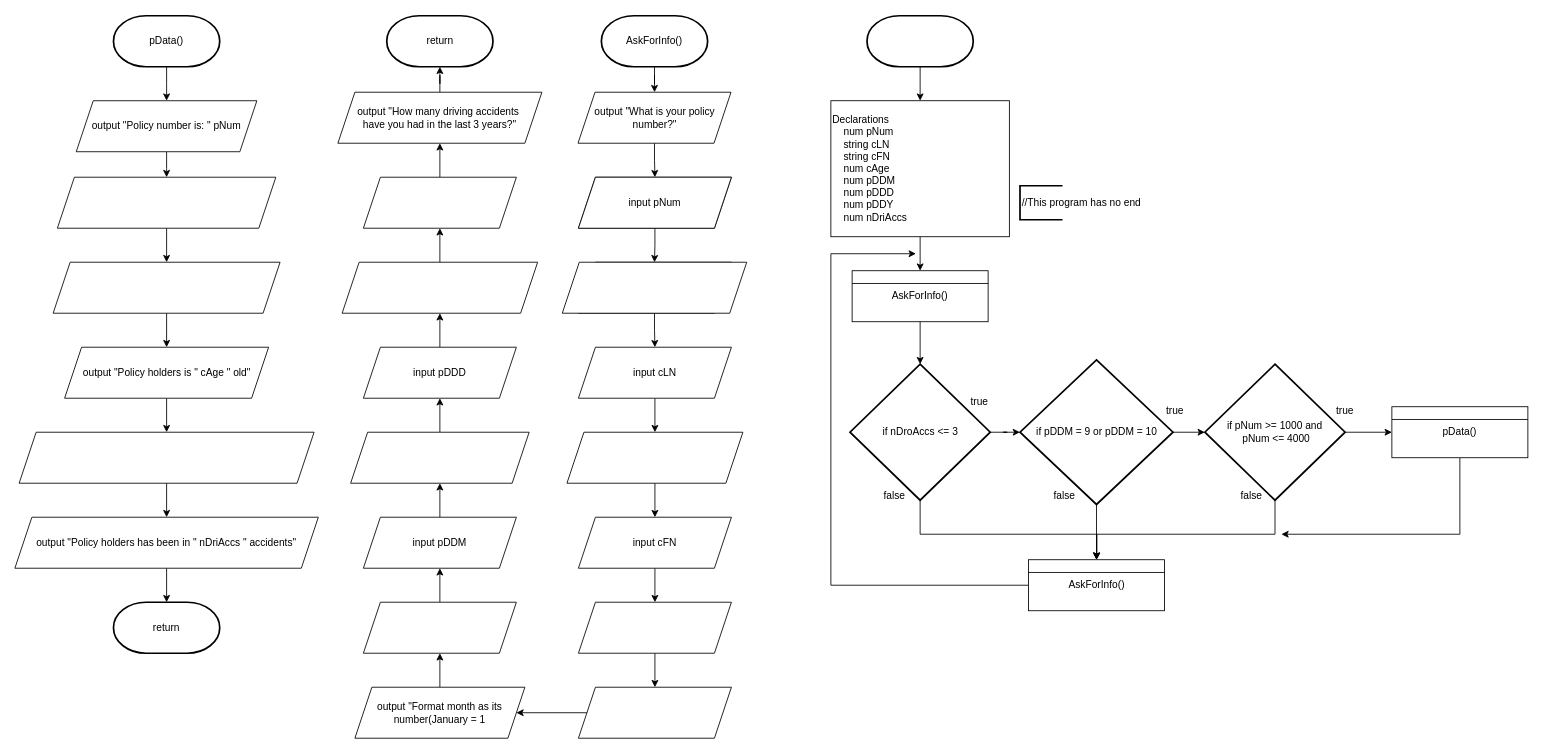
The diagram is 1544 pixels wide and 753 high, and some of its shapes have lost their labels. Here are the shapes that lost their labels. From the top down, the centre of each, then its label:
the point at 920,40: start
the point at 166,202: output "Policy holders last name is: " cLN
the point at 439,202: input pDDY
the point at 166,287: output "Policy holders first name is: " cFN
the point at 439,287: output "Premium due date Year?"
the point at 654,287: output "What is your last name?"
the point at 166,457: output "Policy Due Date is: " pDDM " ," pDDD " ," pDDY
the point at 439,457: output "Premium due date Day?"
the point at 654,457: output "What is your first name?"
the point at 439,627: output "Premium due date Month?"
the point at 654,627: output "What is your age?"
the point at 654,712: input cAge
